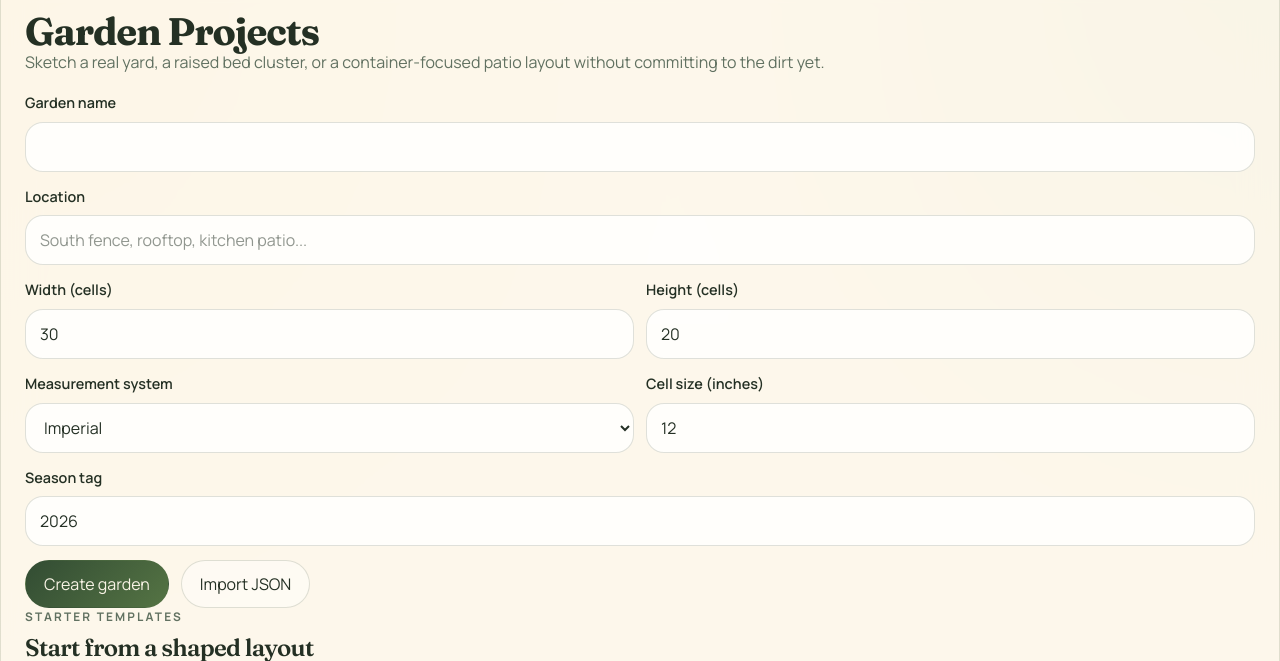
DashboardPage imports › shows a validation error when importing an invalid plan file
The width and height of the screenshot is (1280, 661).
What coordinates should you click on to do the following:
click the button "Import JSON"
I would click on:
 (246, 584)
Its box is [181,560,310,608].
(page scrolled)
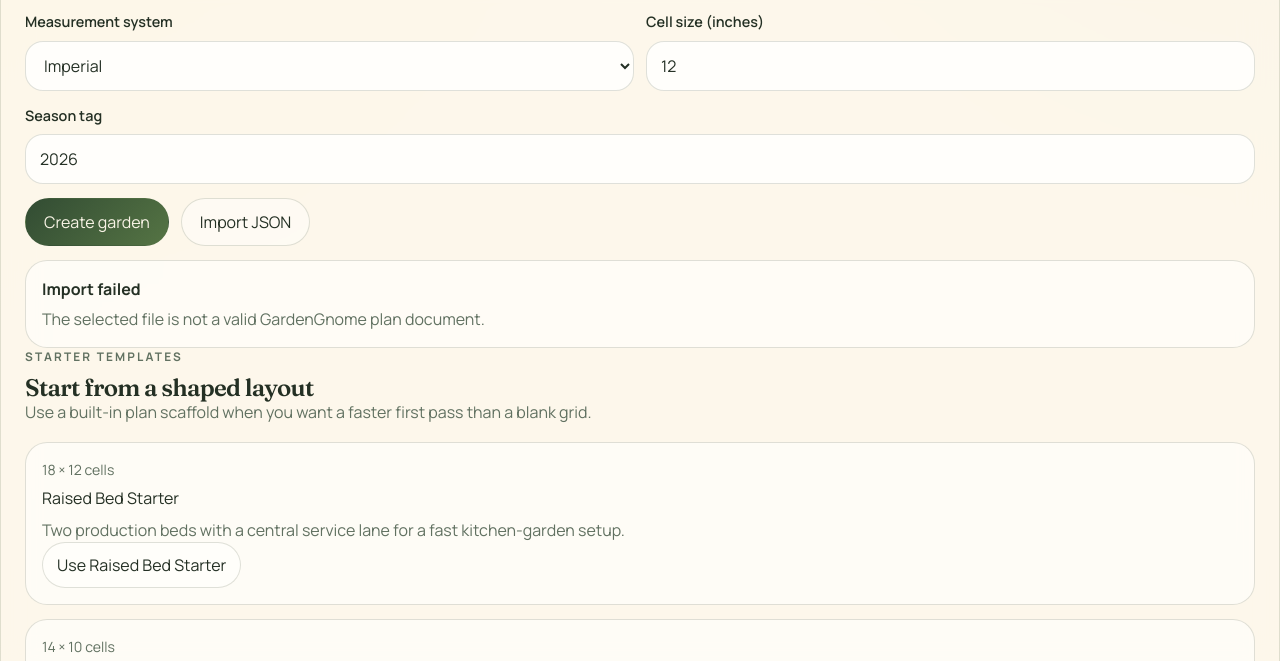
Now the text "The selected file is not a valid GardenGnome plan document." is shown, box [42,308,485,330]
